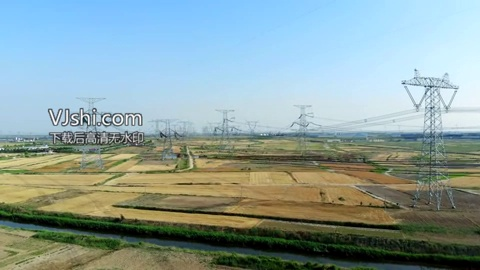tower_body: (394, 64, 466, 213), (293, 102, 321, 147), (155, 117, 177, 160), (215, 109, 239, 141)
tower_foot: (412, 176, 456, 210)
tower_head: (397, 68, 463, 92)
